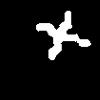single_crochet: (36, 11, 90, 59)
